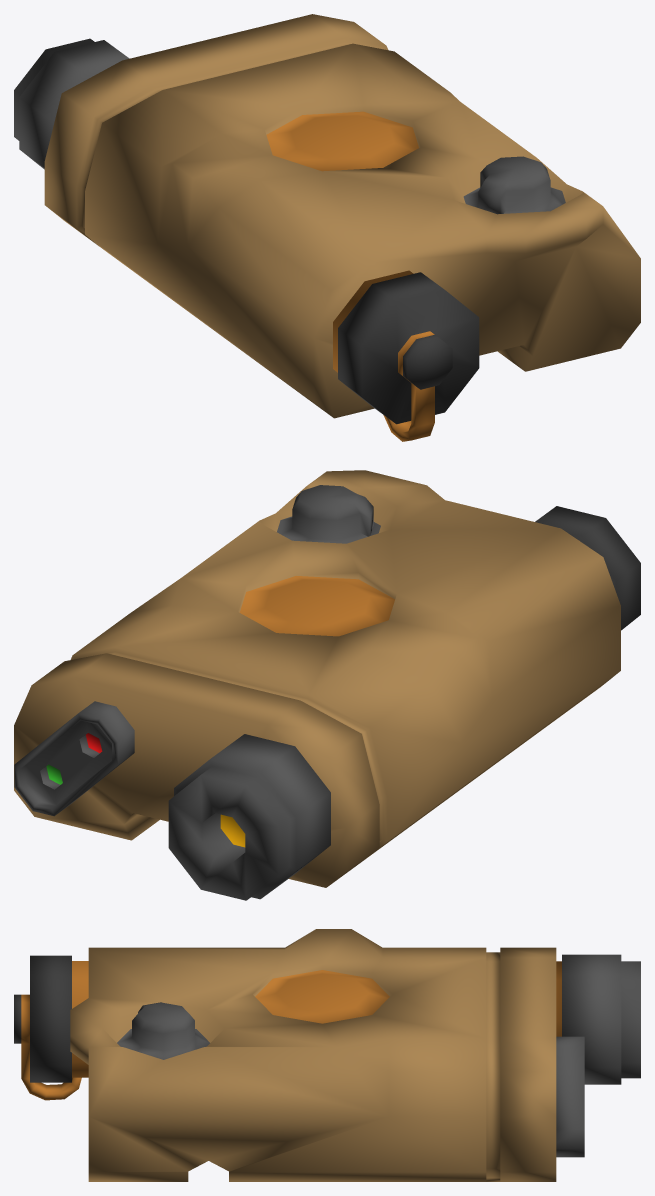
Rendered from ANPEQ15.fbx.
The picture shows the model from 3 angles, top to bottom: view 1: azimuth 30°, elevation 25°; view 2: azimuth 150°, elevation 25°; view 3: azimuth 270°, elevation 25°; orthographic projection. The views are drawn at different scales.
Visible parts, largest first — view 1: AN_PEQ; view 2: AN_PEQ; view 3: AN_PEQ.
Part boxes in pixels (x1,y1,x2,y2): AN_PEQ: (14,14,640,441); AN_PEQ: (14,470,640,900); AN_PEQ: (14,929,640,1181).
Size of the model in its own units: 6.53 by 3.42 by 12.51.
